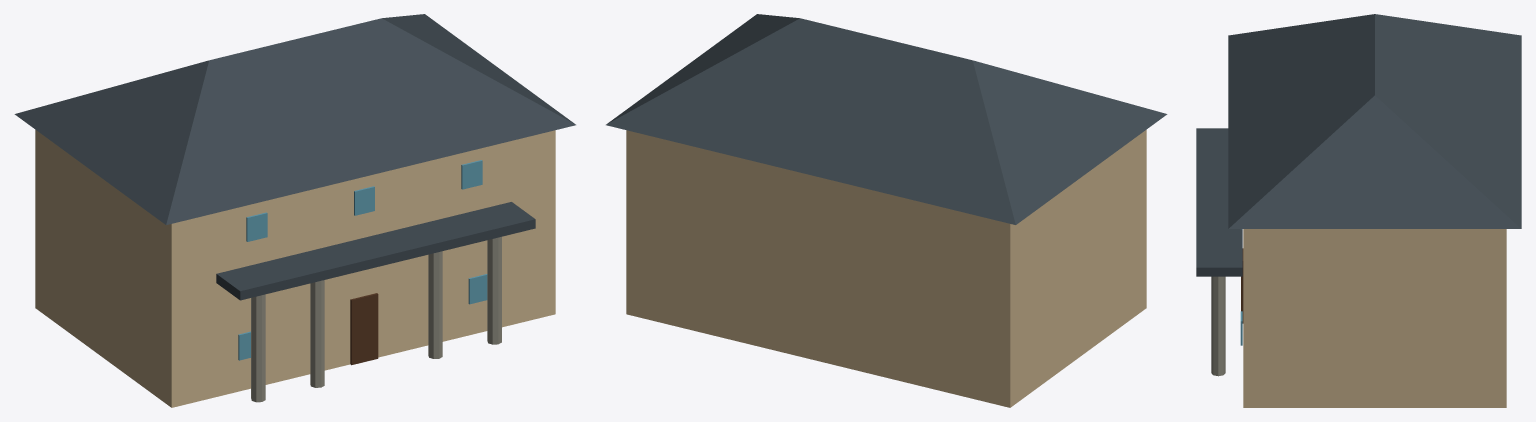
The model's file is civic_hall.obj.
3 renders of one model, left to right at view 1: azimuth 30°, elevation 25°; view 2: azimuth 150°, elevation 25°; view 3: azimuth 270°, elevation 25°, orthographic. The views are drawn at different scales.
Visible parts, largest first — view 1: Cube; view 2: Cube; view 3: Cube.
Part boxes in pixels (x1,y1,x2,y2): Cube: (14,14,575,407); Cube: (606,14,1167,407); Cube: (1196,14,1521,407).
Size of the model in its own units: 13.9 by 8.8 by 9.87.
